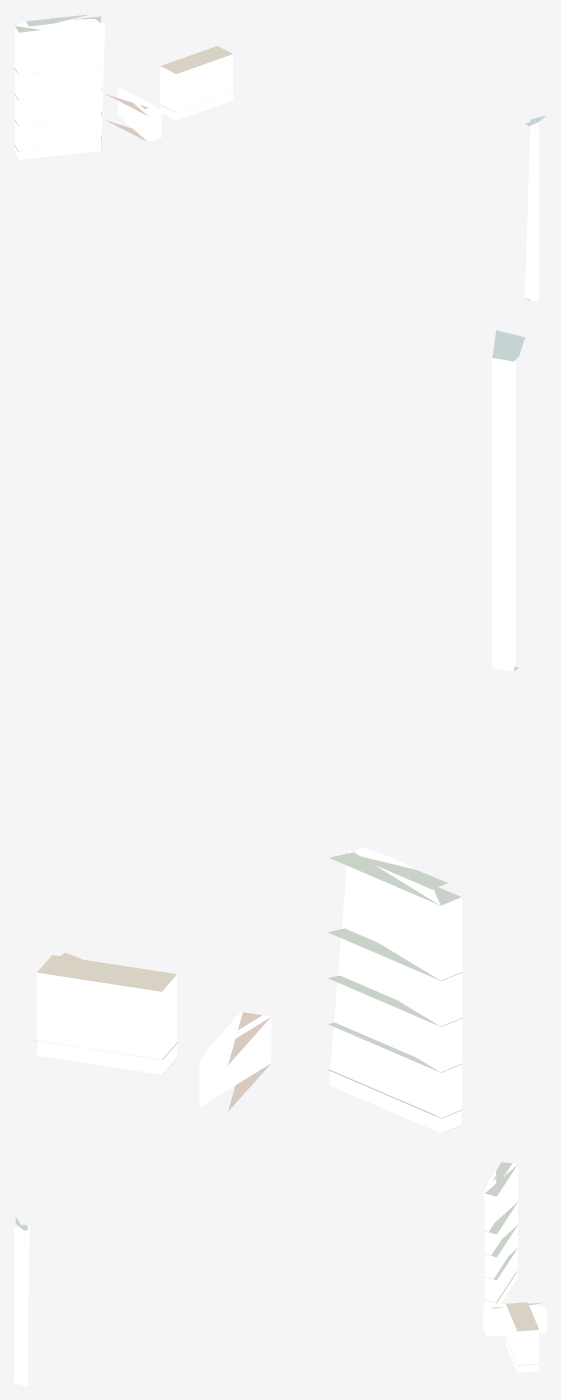
File: buildings-9_-1-coarse.glb
3 views of the same model, one above another, from view 1: azimuth 30°, elevation 25°; view 2: azimuth 150°, elevation 25°; view 3: azimuth 270°, elevation 25° (orthographic). The views are drawn at different scales.
Parts seen in each view (by area): view 1: block_9_-1_residential, block_9_-1_office, block_9_-1_roof; view 2: block_9_-1_residential, block_9_-1_roof, block_9_-1_office; view 3: block_9_-1_residential, block_9_-1_office, block_9_-1_roof.
Part boxes in pixels (bbox=[...]): block_9_-1_residential: bbox=[14, 19, 233, 160]; block_9_-1_office: bbox=[524, 122, 538, 301]; block_9_-1_roof: bbox=[14, 14, 546, 300]; block_9_-1_residential: bbox=[37, 847, 461, 1133]; block_9_-1_roof: bbox=[36, 330, 524, 1133]; block_9_-1_office: bbox=[491, 357, 515, 671]; block_9_-1_residential: bbox=[483, 1163, 546, 1372]; block_9_-1_office: bbox=[14, 1227, 29, 1385]; block_9_-1_roof: bbox=[15, 1162, 543, 1372].
Bounding box in the file's own units: 82.99 × 57.76 × 168.
